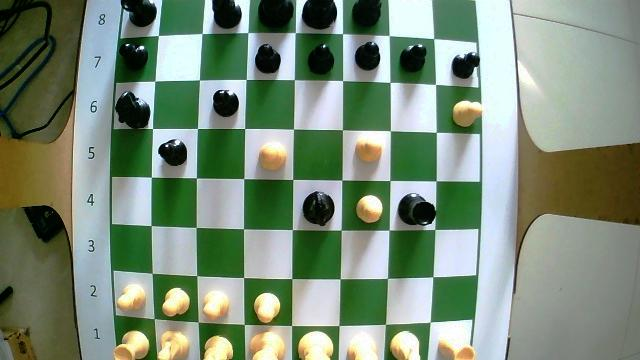piece: (116, 91, 148, 128), (114, 331, 149, 359), (401, 194, 432, 224), (250, 332, 284, 359), (259, 0, 293, 27), (121, 0, 156, 26), (302, 0, 334, 27), (299, 332, 332, 358), (212, 0, 241, 28), (158, 332, 188, 359), (303, 192, 328, 224), (391, 331, 419, 359), (162, 288, 189, 316), (253, 293, 279, 322), (202, 291, 228, 319), (158, 140, 187, 165), (353, 0, 380, 26), (203, 336, 233, 359), (356, 195, 381, 222), (255, 45, 279, 73), (355, 42, 379, 70), (117, 284, 145, 308), (120, 45, 148, 68), (348, 338, 378, 359), (213, 90, 238, 115), (453, 101, 479, 125), (453, 53, 479, 77), (310, 45, 332, 73), (440, 340, 474, 358), (401, 45, 425, 69), (261, 147, 284, 168), (356, 139, 378, 159)
